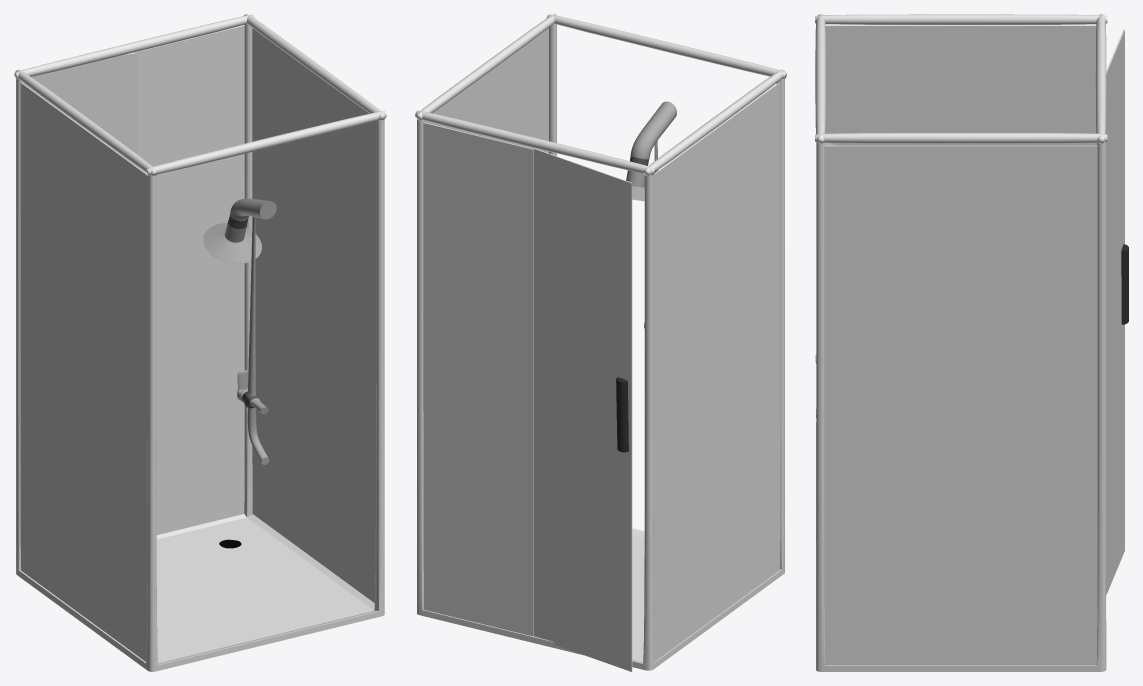
Rendered from shower_unit.glb.
3 views of the same model, side by side, from view 1: azimuth 30°, elevation 25°; view 2: azimuth 150°, elevation 25°; view 3: azimuth 270°, elevation 25° (orthographic). The views are drawn at different scales.
Visible parts, largest first — view 1: Cube.001_Material.007_0, Cube_Material.001_0; view 2: Cube.001_Material.007_0, Cube_Material.001_0; view 3: Cube.001_Material.007_0, Cube_Material.001_0.
Boxes of the visible parts, x1,y1,x2,y2 form: Cube.001_Material.007_0: (20, 25, 376, 661); Cube_Material.001_0: (14, 14, 386, 671); Cube.001_Material.007_0: (423, 28, 780, 671); Cube_Material.001_0: (415, 14, 786, 670); Cube.001_Material.007_0: (824, 25, 1124, 665); Cube_Material.001_0: (815, 14, 1128, 671).
Bounding box in the file's own units: 201 × 407 × 216.
Materials: 2 (2 with a texture image).
